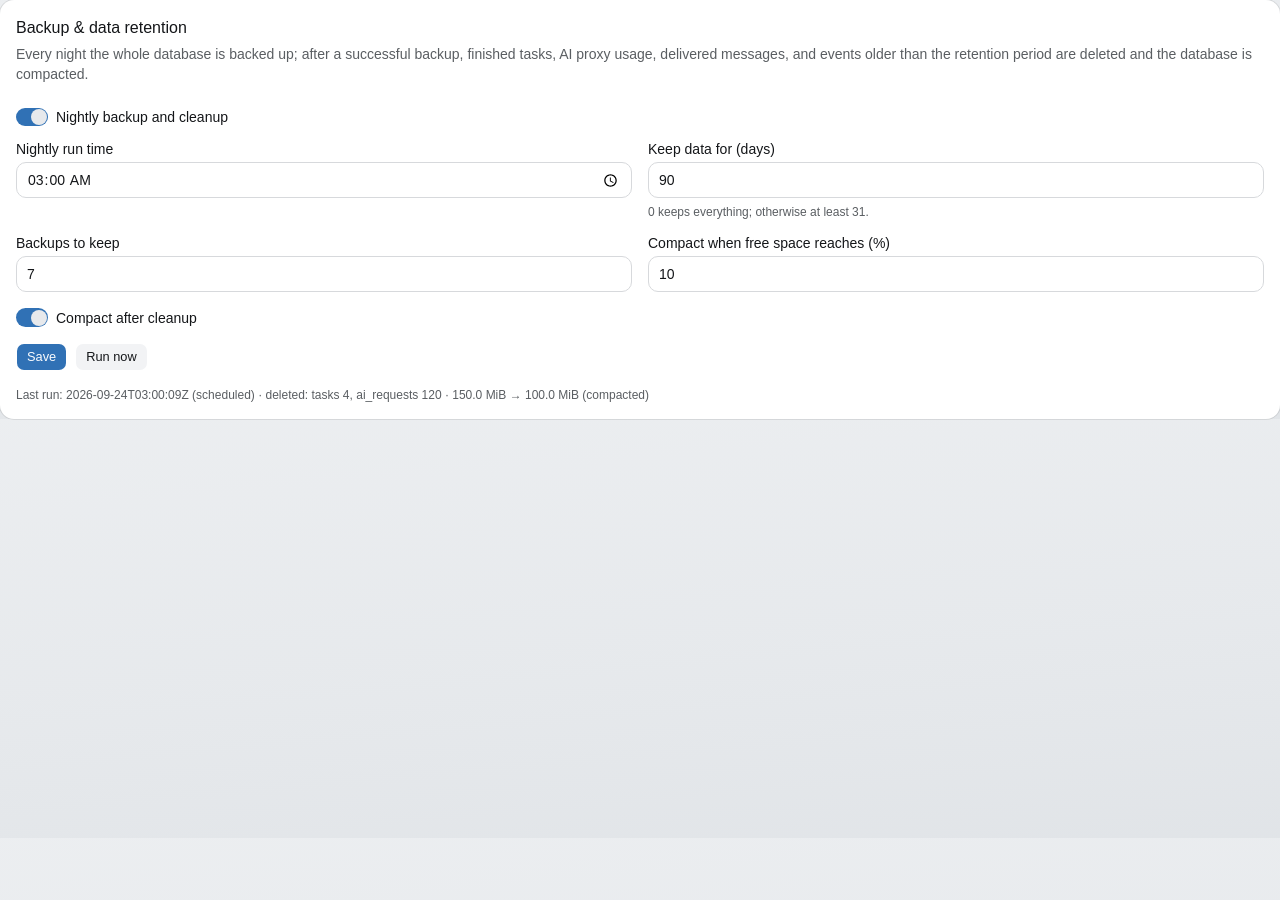
Test: MaintenanceSettingsCard › runs now and shows a run error in place
Click the button "Run now": (111,357) [75,343,148,371]
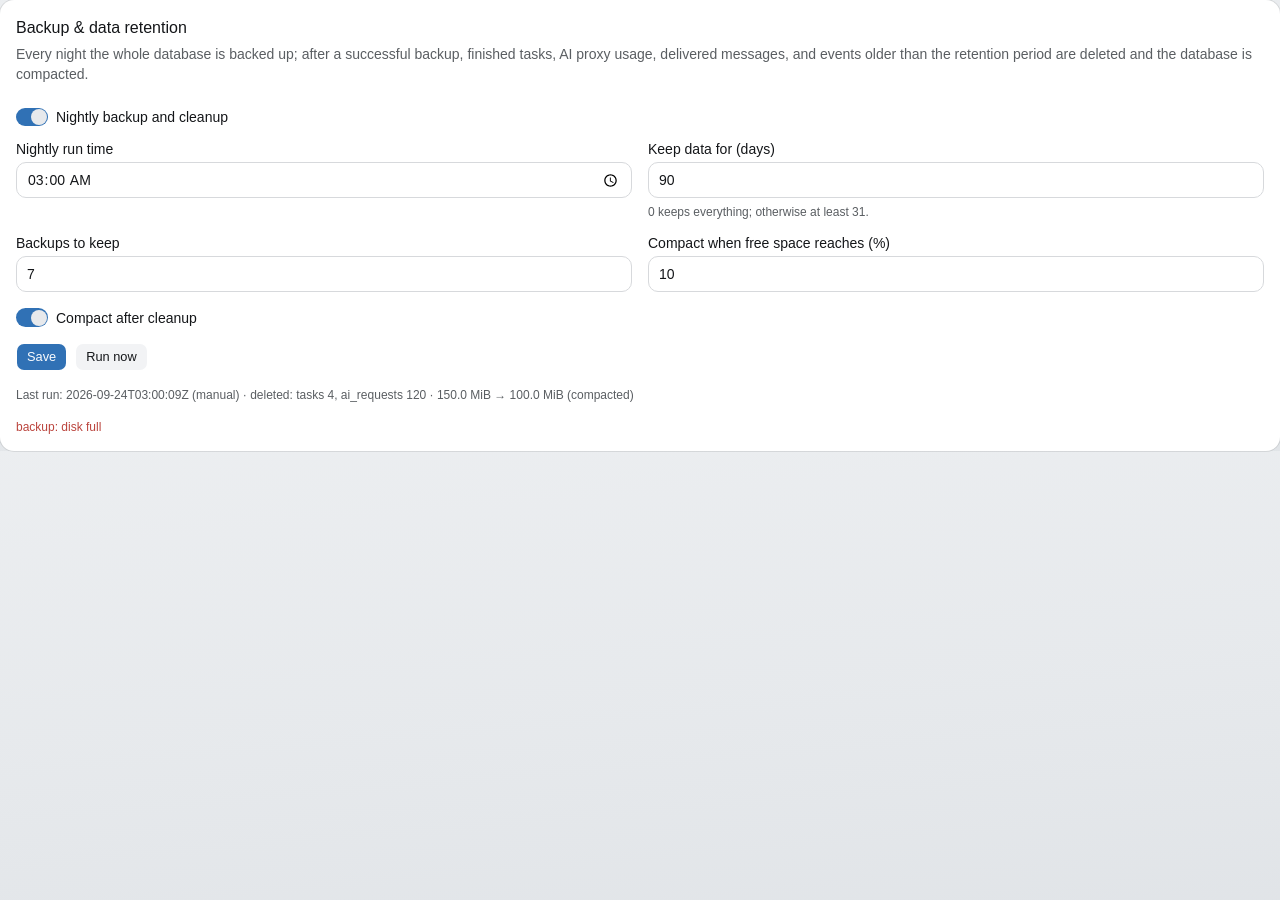
Result: the message reads "backup: disk full" at [16,420,101,434]
